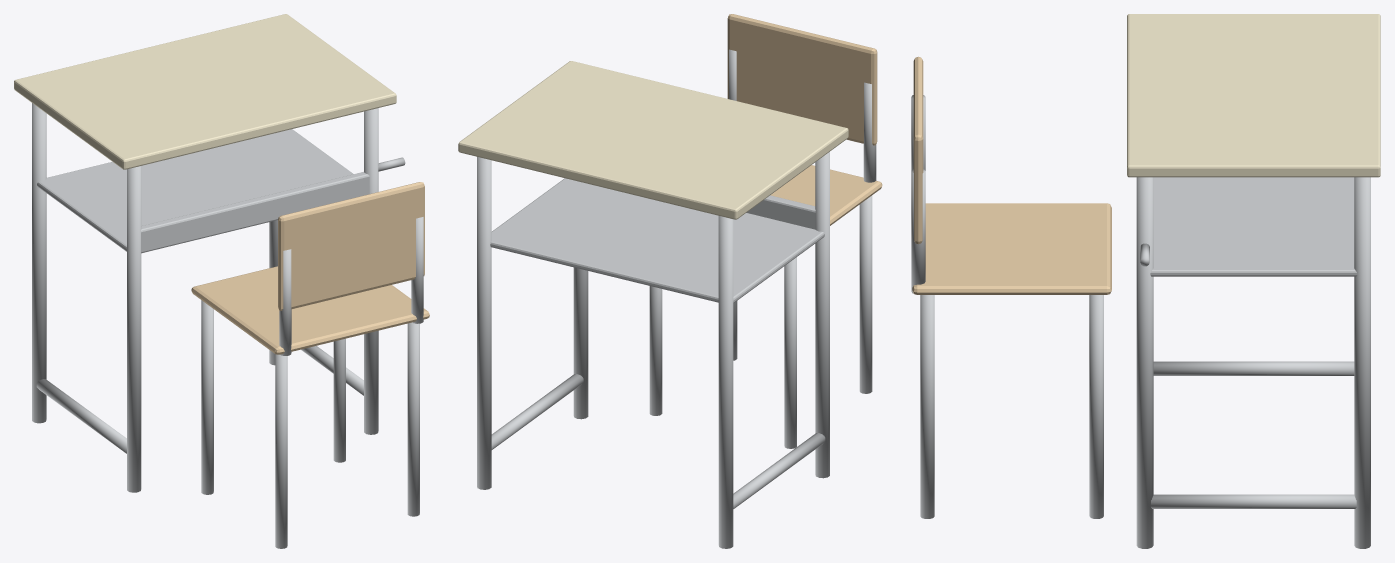
File: school_desk_chair.glb
3 views of the same model, side by side, from view 1: azimuth 30°, elevation 25°; view 2: azimuth 150°, elevation 25°; view 3: azimuth 270°, elevation 25° (orthographic). The views are drawn at different scales.
Visible parts, largest first — view 1: desk_top, desk_tray, chair_back, chair_seat, desk_tray_lip, desk_leg_b-0.26, desk_leg_f-0.26, desk_leg_b0.26, chair_leg_b-0.145, chair_leg_b0.145, chair_leg_f-0.145, chair_leg_f0.145 (+5 smaller); view 2: desk_top, desk_tray, chair_back, desk_leg_f-0.26, desk_leg_f0.26, desk_leg_b-0.26, chair_leg_b-0.145, chair_seat, chair_leg_f-0.145, desk_leg_b0.26, chair_leg_f0.145, desk_rail_r (+3 smaller); view 3: desk_top, desk_tray, chair_seat, desk_leg_b0.26, desk_leg_f0.26, chair_leg_f0.145, chair_leg_b0.145, desk_rail_r, desk_rail_l, chair_back, chair_up0.145.
Boxes of the visible parts, box(x1,y1,x2,y2) form: desk_top: box(14, 14, 396, 169); desk_tray: box(37, 129, 353, 251); chair_back: box(278, 182, 424, 310); chair_seat: box(191, 266, 429, 354); desk_tray_lip: box(141, 172, 369, 253); desk_leg_b-0.26: box(127, 166, 141, 492); desk_leg_f-0.26: box(32, 103, 46, 423); desk_leg_b0.26: box(364, 108, 378, 434); chair_leg_b-0.145: box(275, 354, 287, 548); chair_leg_b0.145: box(407, 322, 419, 516); chair_leg_f-0.145: box(201, 300, 213, 494); chair_leg_f0.145: box(333, 338, 345, 462); desk_top: box(458, 61, 848, 219); desk_tray: box(490, 178, 824, 303); chair_back: box(727, 14, 877, 145); desk_leg_f-0.26: box(718, 216, 733, 548); desk_leg_f0.26: box(477, 157, 491, 489); desk_leg_b-0.26: box(815, 152, 829, 478); chair_leg_b-0.145: box(859, 195, 872, 393); chair_seat: box(770, 165, 882, 225); chair_leg_f-0.145: box(784, 257, 796, 448); desk_leg_b0.26: box(573, 267, 588, 419); chair_leg_f0.145: box(649, 286, 662, 415); desk_rail_r: box(491, 374, 583, 449); desk_top: box(1127, 14, 1380, 177); desk_tray: box(1150, 177, 1357, 276); chair_seat: box(912, 203, 1111, 294); desk_leg_b0.26: box(1136, 177, 1153, 548); desk_leg_f0.26: box(1354, 177, 1370, 548); chair_leg_f0.145: box(1089, 295, 1103, 518); chair_leg_b0.145: box(920, 295, 934, 518); desk_rail_r: box(1151, 494, 1356, 508); desk_rail_l: box(1153, 361, 1354, 375); chair_back: box(913, 56, 923, 244); chair_up0.145: box(911, 169, 925, 293).
Size of the model in its own units: 0.63 by 0.711 by 0.777.
